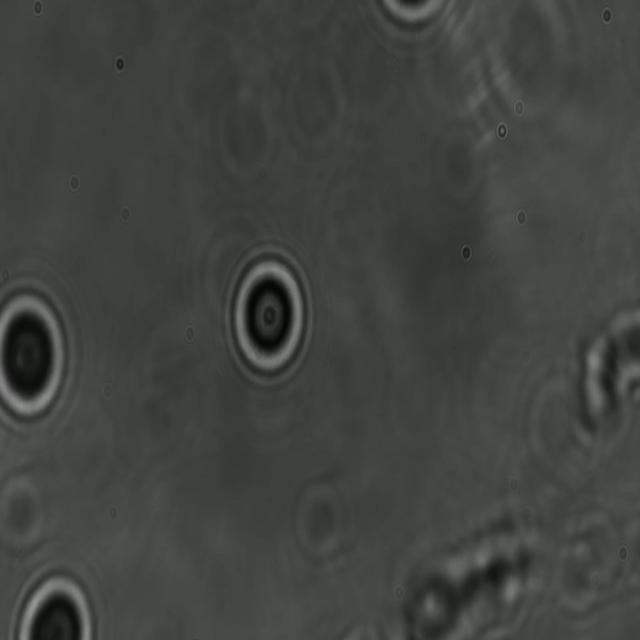LCELL: (219, 239, 317, 396)
